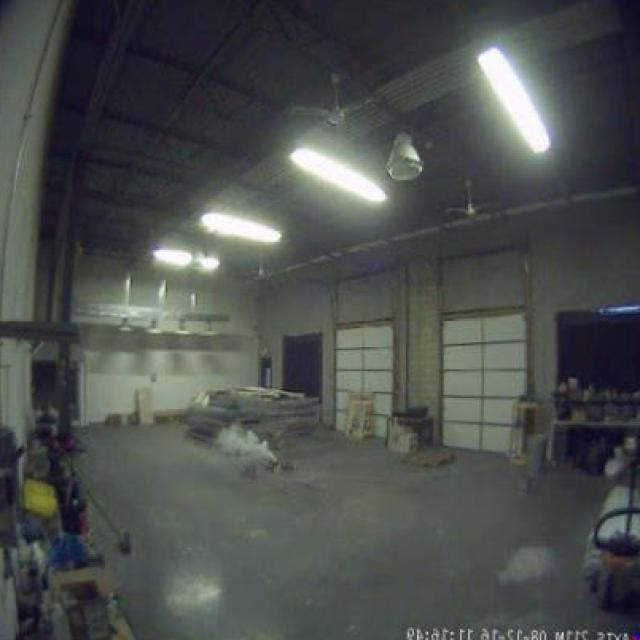fire: (212, 406, 278, 479)
